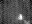person: (24, 20, 29, 24), (19, 15, 23, 19)
